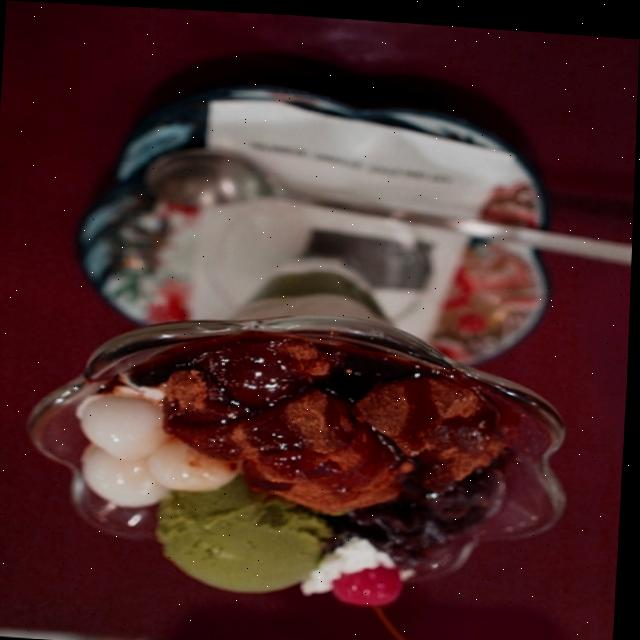蛋糕甜品: (36, 73, 608, 640)
